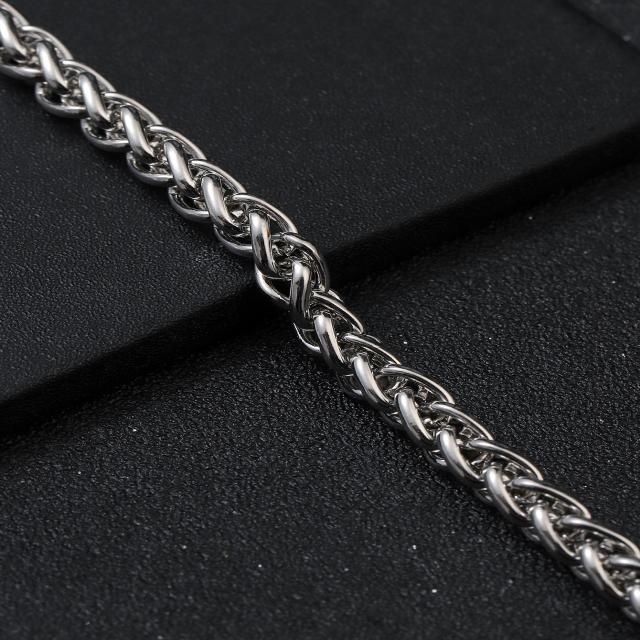bracelet: (3, 1, 640, 636)
